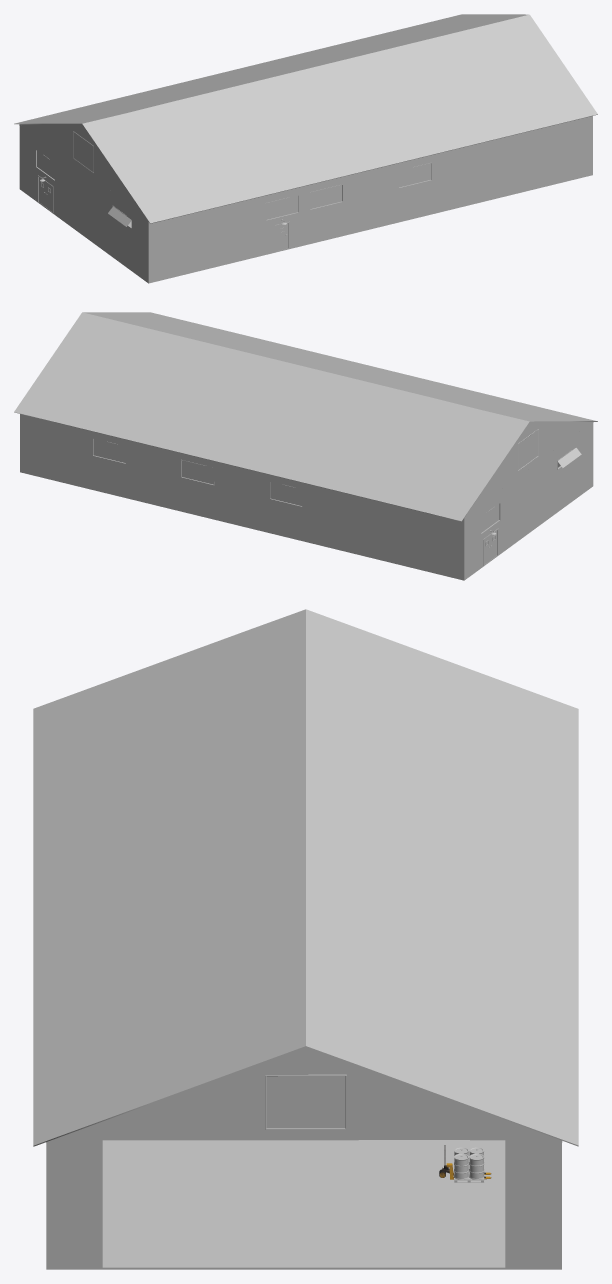
The model's file is AirportAngar04.fbx.
3 renders of one model, top to bottom at view 1: azimuth 30°, elevation 25°; view 2: azimuth 150°, elevation 25°; view 3: azimuth 270°, elevation 25°, orthographic. The views are drawn at different scales.
Parts seen in each view (by area): view 1: WHRoofWall3, WHWall1.001, WHFloor.003; view 2: WHRoofWall3, WHWall1.001, WHFloor.003; view 3: WHRoofWall3, WHFloor.003, WHWall1.001, Trolley.002.
Boxes of the visible parts, bbox=[...] form: WHRoofWall3: bbox=[14, 14, 597, 223]; WHWall1.001: bbox=[19, 116, 592, 282]; WHFloor.003: bbox=[19, 174, 592, 283]; WHRoofWall3: bbox=[14, 312, 597, 521]; WHWall1.001: bbox=[20, 414, 593, 579]; WHFloor.003: bbox=[20, 471, 593, 580]; WHRoofWall3: bbox=[33, 609, 578, 1146]; WHFloor.003: bbox=[46, 1140, 561, 1269]; WHWall1.001: bbox=[46, 1140, 562, 1268]; Trolley.002: bbox=[439, 1145, 491, 1182].
Size of the model in its own units: 4087 by 974 by 2137.
